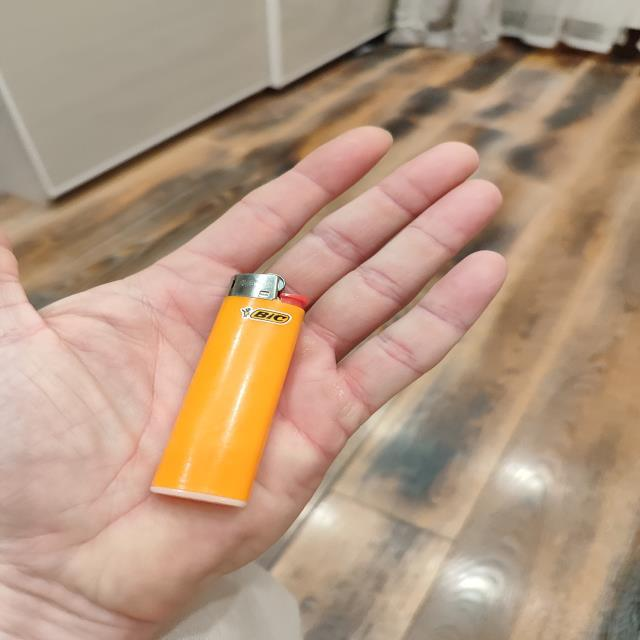lighter: (152, 275, 305, 505)
